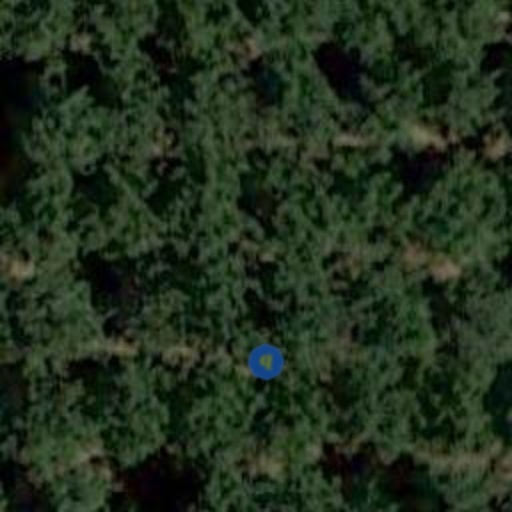octagon: (246, 342, 286, 382)
